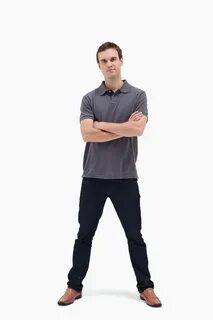awake: (57, 41, 163, 308)
